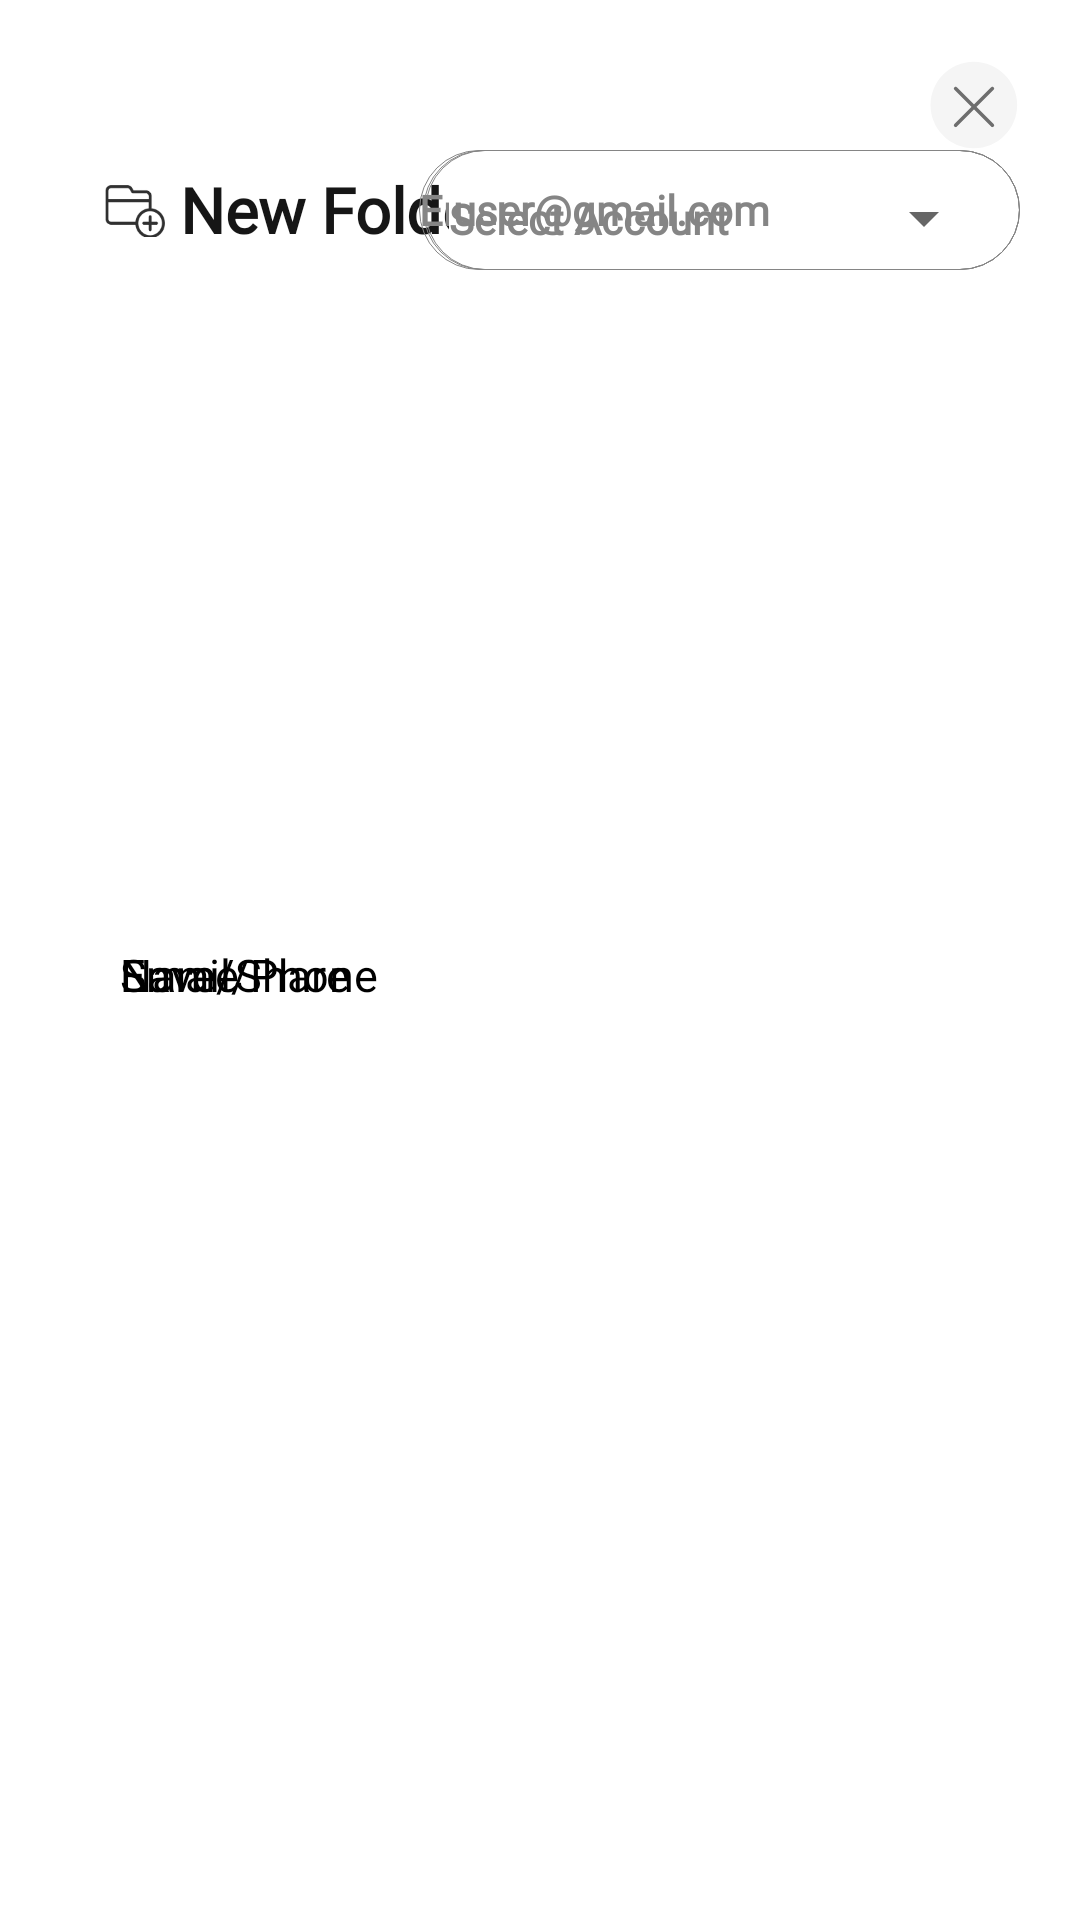

Icon click points for this 1080 × 1920 phone screenshot, format point (x, y):
add folder: point (135, 211)
close: point (974, 105)
